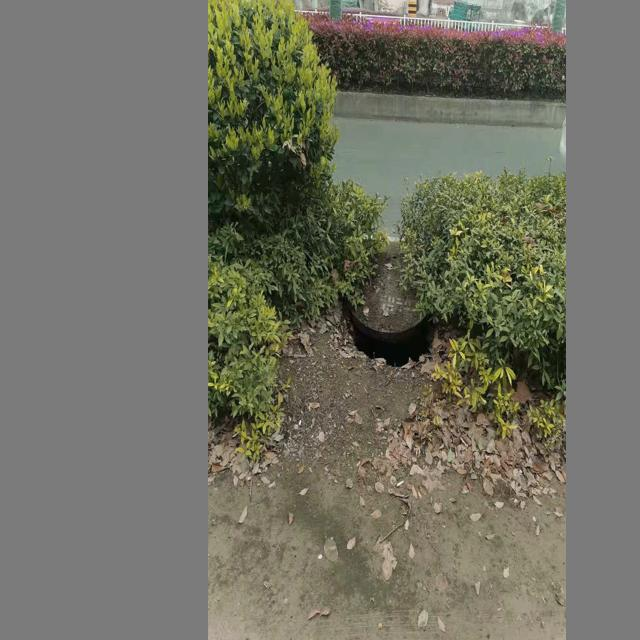uncovered: (341, 261, 435, 370)
